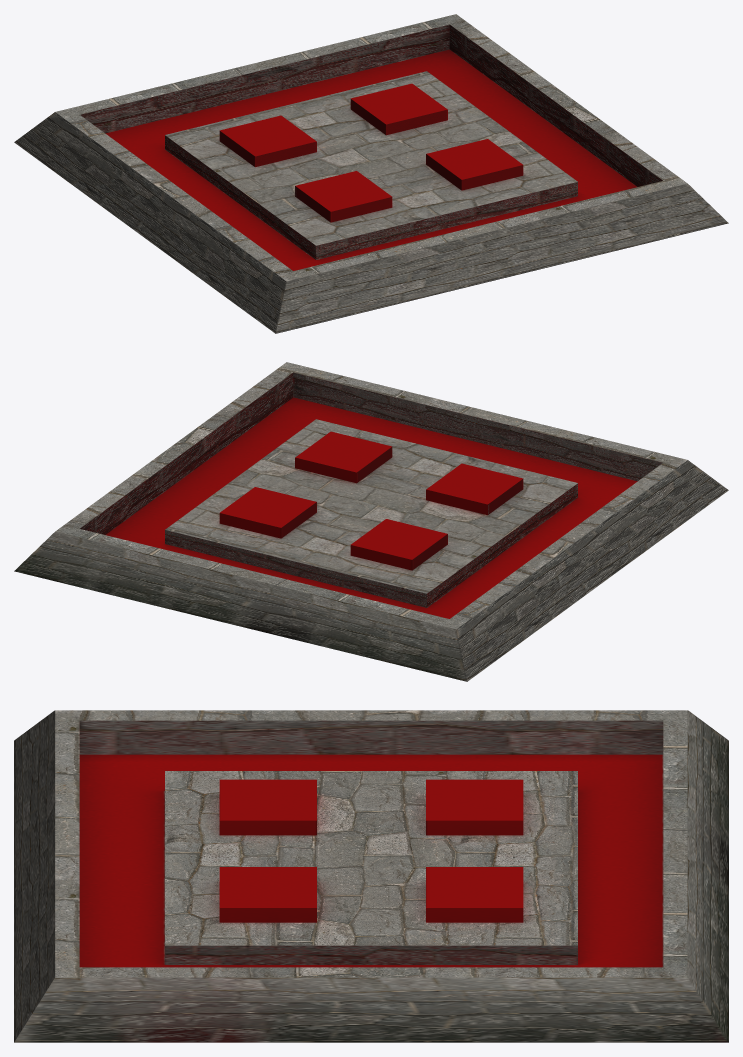
The model's file is red_villa.gltf.
3 views of the same model, one above another, from view 1: azimuth 30°, elevation 25°; view 2: azimuth 150°, elevation 25°; view 3: azimuth 270°, elevation 25° (orthographic). The views are drawn at different scales.
Visible parts, largest first — view 1: red_villa_lowpoly; view 2: red_villa_lowpoly; view 3: red_villa_lowpoly.
Part boxes in pixels (left/top/right/bottom): red_villa_lowpoly: left=14, top=14, right=728, bottom=333; red_villa_lowpoly: left=14, top=362, right=728, bottom=681; red_villa_lowpoly: left=14, top=710, right=728, bottom=1042.
Size of the model in its own units: 12.09 by 0.895 by 12.09.
1 material, 1 textured.
